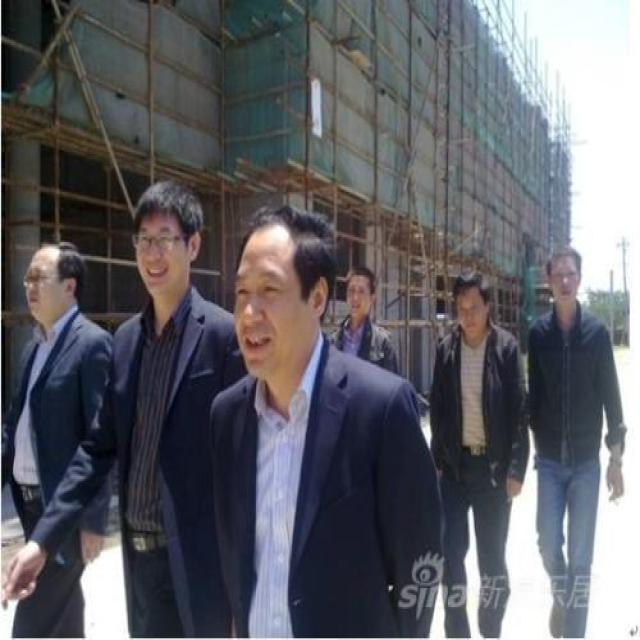no-helmet: (232, 210, 324, 376), (124, 176, 206, 301), (19, 235, 83, 322), (544, 240, 585, 316), (450, 270, 492, 344), (344, 262, 380, 331)
